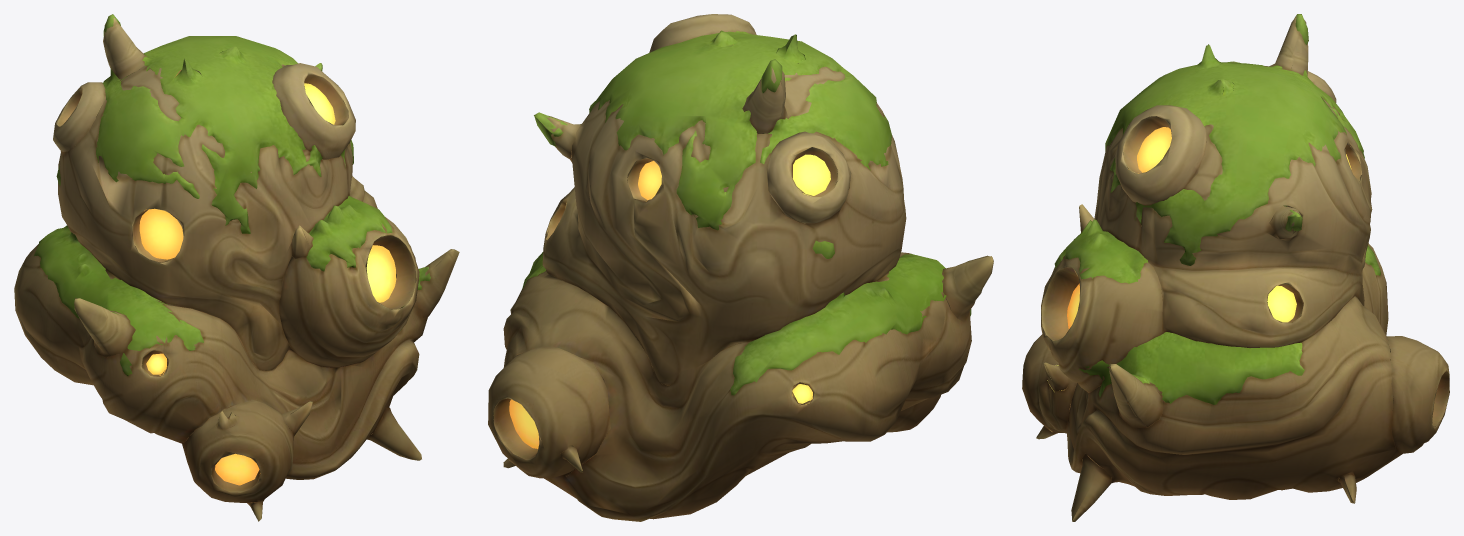
Rendered from bog_acorn_house_lite.glb.
3 views of the same model, side by side, from view 1: azimuth 30°, elevation 25°; view 2: azimuth 150°, elevation 25°; view 3: azimuth 270°, elevation 25° (orthographic). The views are drawn at different scales.
Parts seen in each view (by area): view 1: SM_XBOG_STL_Acorn_01A; view 2: SM_XBOG_STL_Acorn_01A; view 3: SM_XBOG_STL_Acorn_01A.
Boxes of the visible parts, box(x1,y1,x2,y2) form: SM_XBOG_STL_Acorn_01A: box(14, 14, 459, 521); SM_XBOG_STL_Acorn_01A: box(488, 14, 993, 521); SM_XBOG_STL_Acorn_01A: box(1022, 14, 1449, 521).
Size of the model in its own units: 21.06 by 22.68 by 21.09.
Materials: 1 (1 with a texture image).
